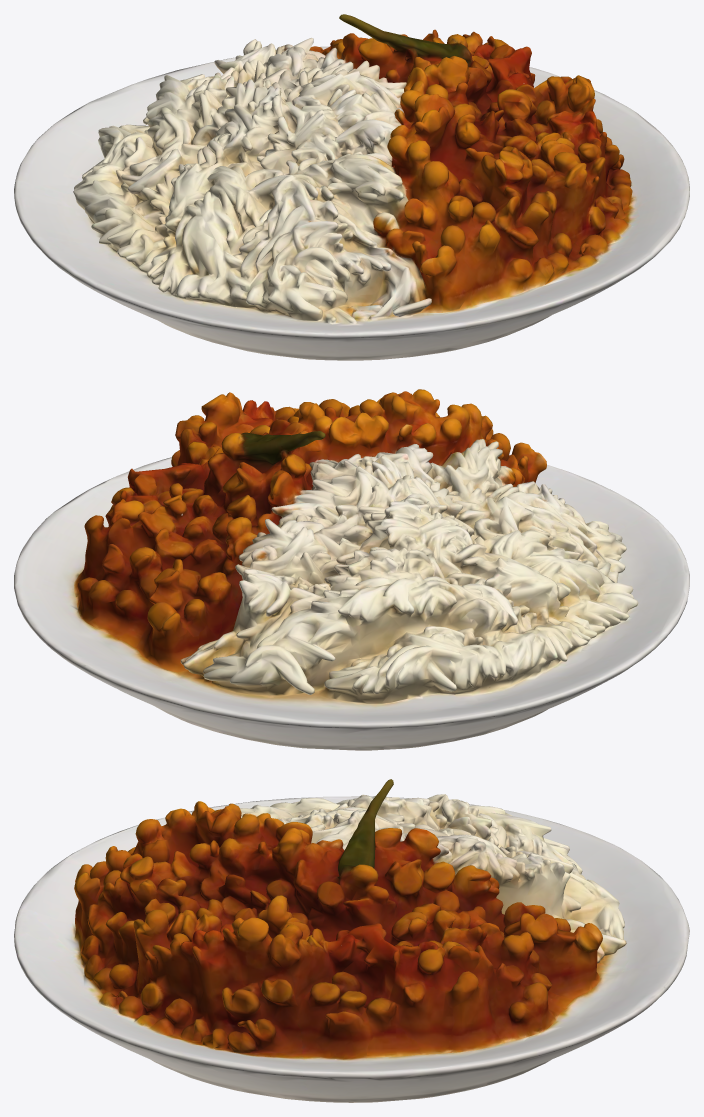
File: curry.glb
3 renders of one model, top to bottom at view 1: azimuth 30°, elevation 25°; view 2: azimuth 150°, elevation 25°; view 3: azimuth 270°, elevation 25°, orthographic.
Parts seen in each view (by area): view 1: tripo_node_18b8b1be-db1c-4d06-95ed-1b00f83dc11a; view 2: tripo_node_18b8b1be-db1c-4d06-95ed-1b00f83dc11a; view 3: tripo_node_18b8b1be-db1c-4d06-95ed-1b00f83dc11a.
Part boxes in pixels (x1,y1,x2,y2): tripo_node_18b8b1be-db1c-4d06-95ed-1b00f83dc11a: (14,14,689,360); tripo_node_18b8b1be-db1c-4d06-95ed-1b00f83dc11a: (14,389,689,750); tripo_node_18b8b1be-db1c-4d06-95ed-1b00f83dc11a: (14,779,689,1102).
Bounding box in the file's own units: 0.9772 × 0.3691 × 0.9779.
Materials: 1 (1 with a texture image).
